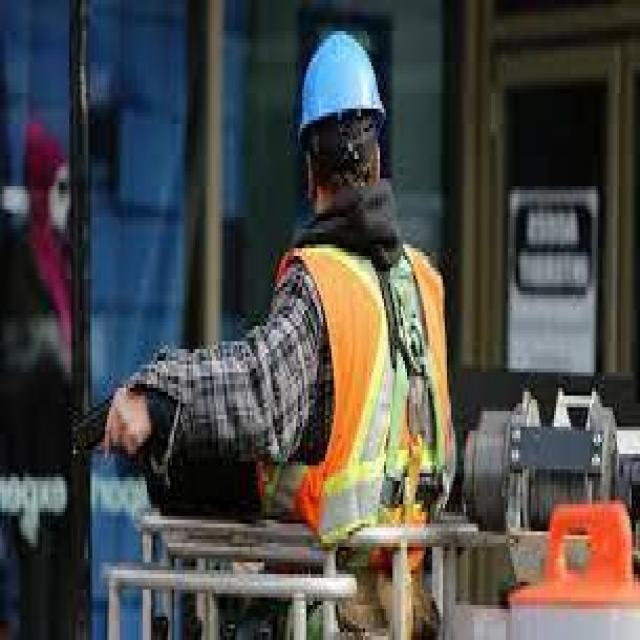Reflective-Jacket: (268, 229, 462, 632)
Safety-Helmet: (292, 28, 390, 148)
